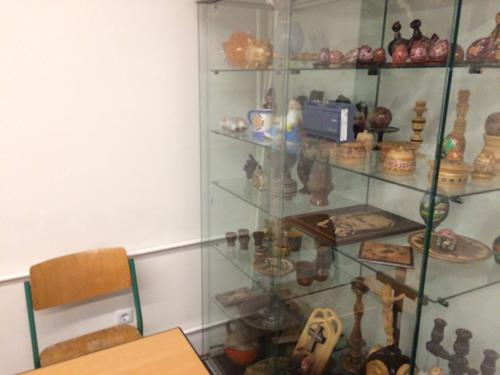iot2000: (302, 99, 355, 146)
